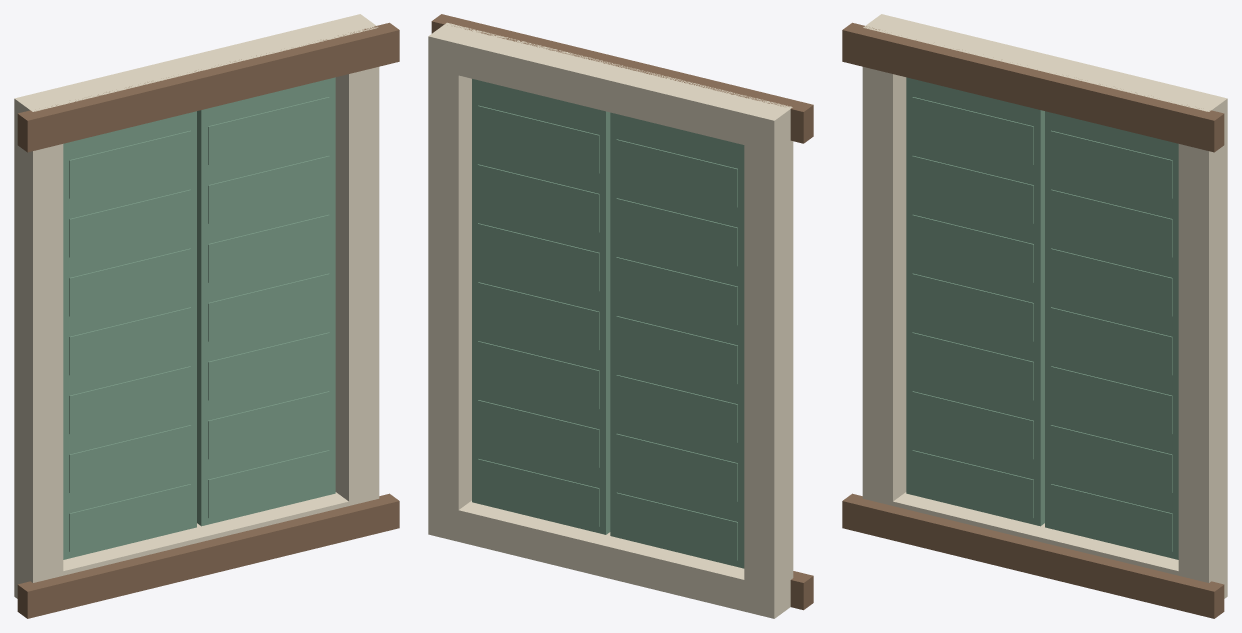
File: kit_shutter_window.glb
3 views of the same model, side by side, from view 1: azimuth 30°, elevation 25°; view 2: azimuth 150°, elevation 25°; view 3: azimuth 330°, elevation 25° (orthographic).
Parts seen in each view (by area): view 1: kit_shutter_window; view 2: kit_shutter_window; view 3: kit_shutter_window.
Boxes of the visible parts, x1=… form: kit_shutter_window: x1=14, y1=14, x2=399, y2=618; kit_shutter_window: x1=428, y1=14, x2=813, y2=618; kit_shutter_window: x1=842, y1=14, x2=1227, y2=618.
Bounding box in the file's own units: 1.72 × 2.2 × 0.21.
